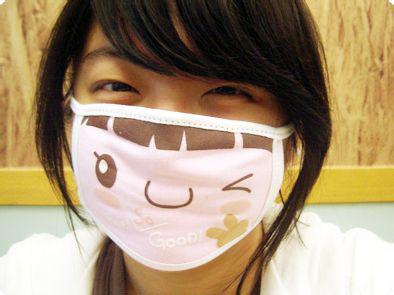OK: (73, 48, 275, 257)
